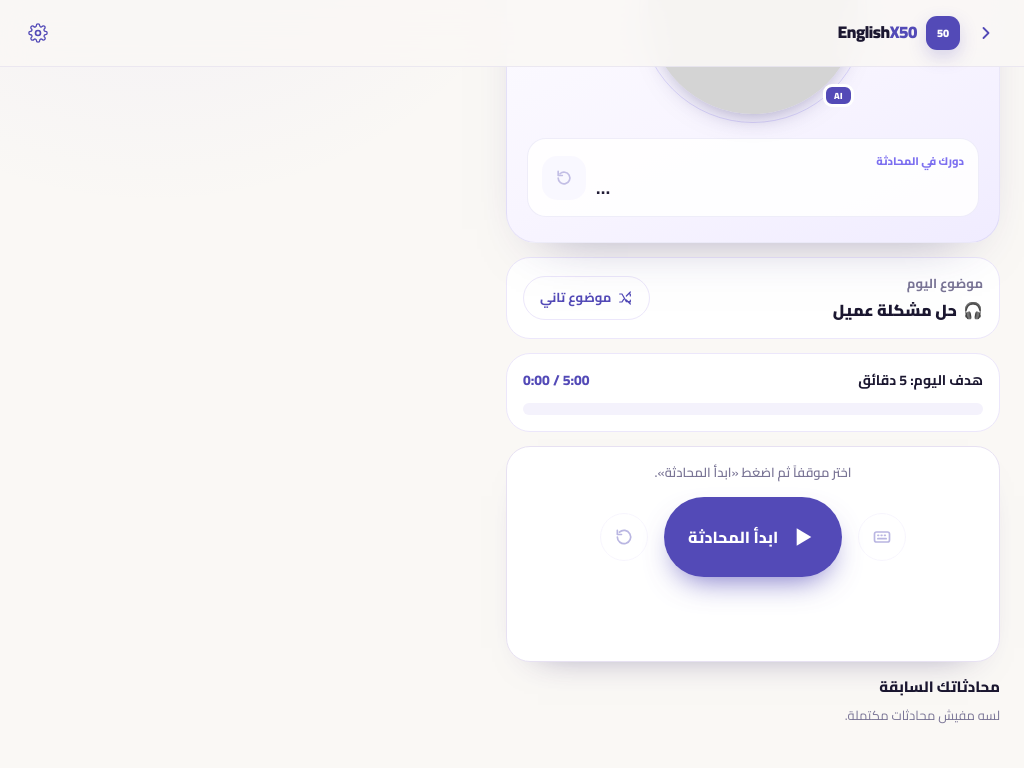
it: SpeakPage access control › lets a paid user in, loads their session, and starts on request
(page scrolled)
Click the button "ابدأ المحادثة": (753, 536) [664,496,842,576]
(page scrolled)
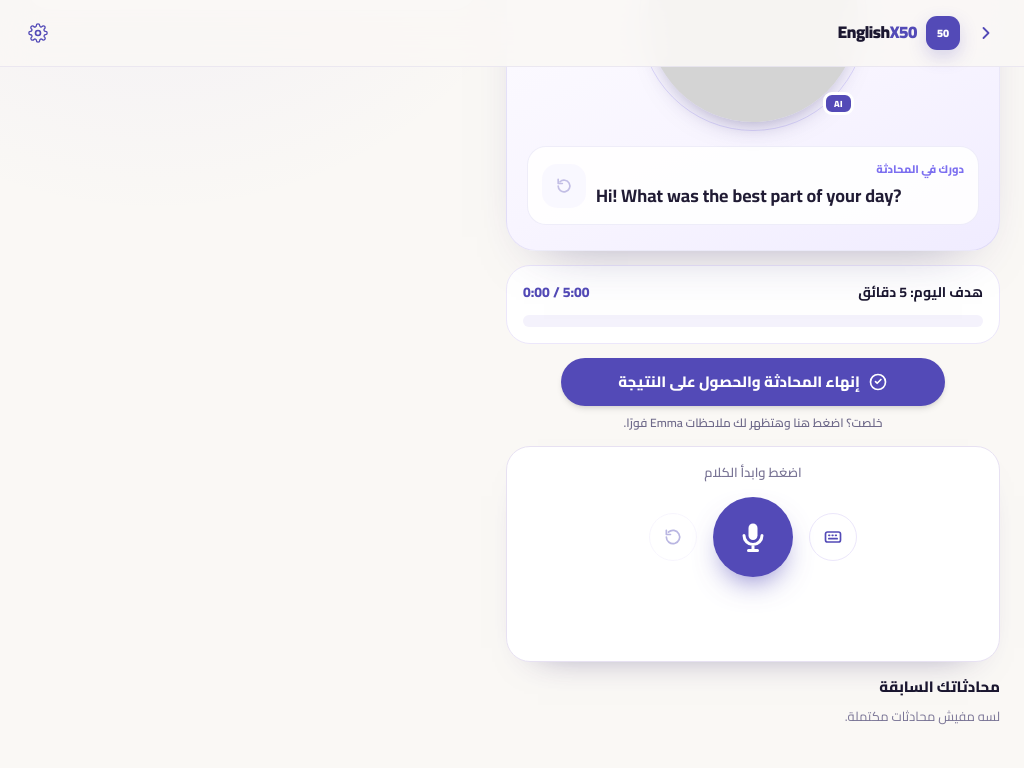
expect the text "Hi! What was the best part of your day?" is shown: met, box [596,178,902,212]
